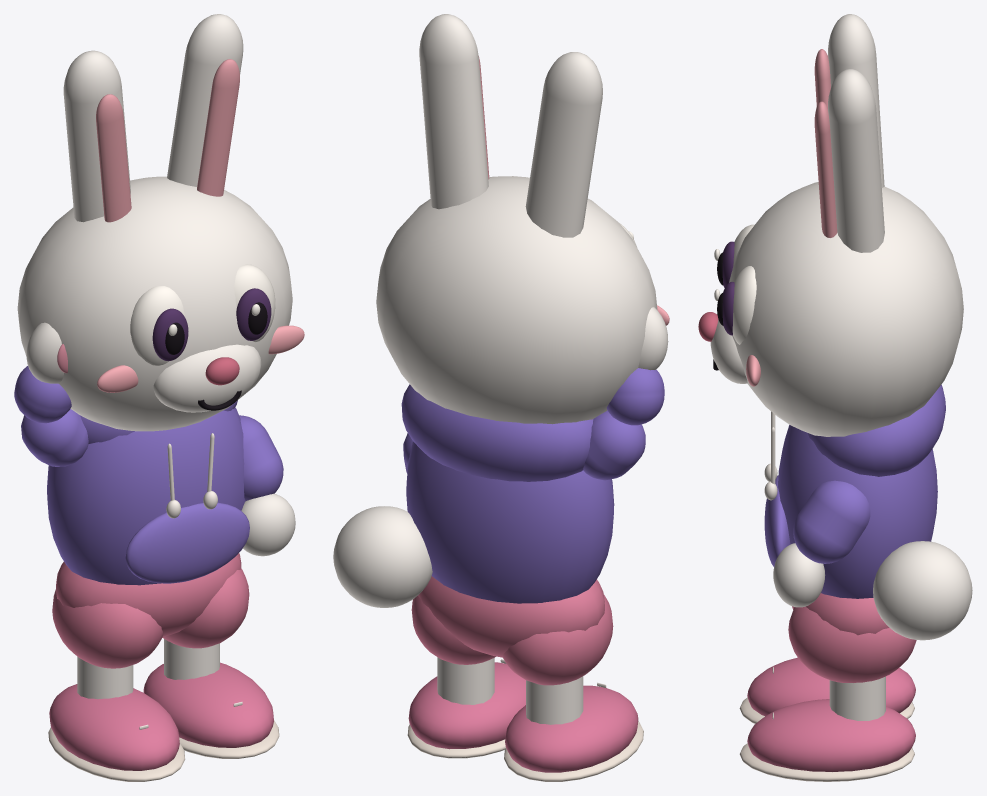
The model's file is rabbit-mascot.glb.
3 renders of one model, left to right at view 1: azimuth 30°, elevation 25°; view 2: azimuth 150°, elevation 25°; view 3: azimuth 270°, elevation 25°, orthographic. The views are drawn at different scales.
Visible parts, largest first — view 1: head, hoodie body, left shoe, right shoe, front pocket, right ear, left ear, shorts waist, left shorts leg, muzzle, right inner ear, left inner ear (+18 smaller); view 2: head, hoodie body, right ear, hood, left ear, tail, shorts waist, left shoe, right shoe, left shorts leg, raised upper sleeve, raised lower sleeve (+6 smaller); view 3: head, hoodie body, right shoe, right ear, tail, right shorts leg, hood, resting sleeve, left shoe, left ear, resting paw, shorts waist (+8 smaller).
Boxes of the visible parts, x1,y1,x2,y2 form: head: (17,176,292,431); hoodie body: (47,407,245,585); left shoe: (49,684,179,770); right shoe: (143,662,273,747); front pocket: (125,502,249,583); right ear: (167,14,243,186); left ear: (63,50,130,222); shorts waist: (56,553,241,636); left shorts leg: (52,589,163,668); muzzle: (153,344,261,412); right inner ear: (197,59,239,196); left inner ear: (96,94,131,222); head: (376,176,657,424); hoodie body: (406,441,614,603); right ear: (419,14,488,209); hood: (401,384,593,481); left ear: (525,52,602,237); tail: (333,506,432,607); shorts waist: (418,576,604,657); left shoe: (505,685,638,772); right shoe: (408,662,525,749); left shorts leg: (502,594,613,685); raised upper sleeve: (583,410,645,480); raised lower sleeve: (606,368,664,425); head: (729,182,963,436); hoodie body: (778,425,937,598); right shoe: (747,699,915,771); right ear: (828,69,884,252); tail: (873,541,972,640); right shorts leg: (788,606,916,682); hood: (808,384,945,476); resting sleeve: (793,480,870,563); left shoe: (747,657,915,716); left ear: (828,14,884,187); resting paw: (773,543,825,607); shorts waist: (792,593,889,635).
Bounding box in the file's own units: 1.45 × 3.6 × 1.27.
